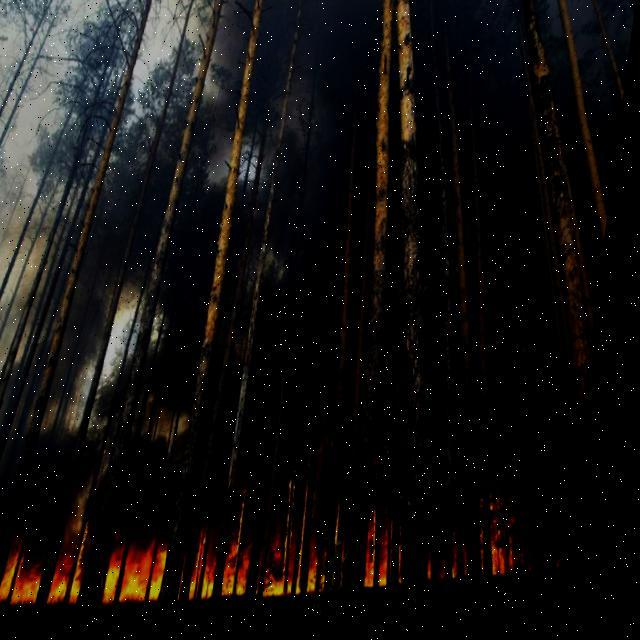Fire: (0, 493, 567, 610)
